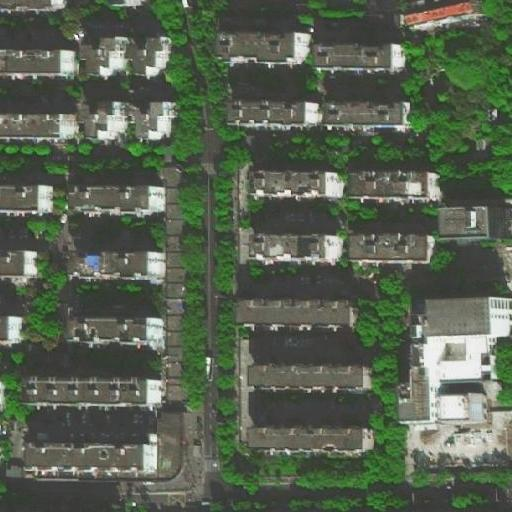building: (413, 295, 511, 339), (31, 438, 153, 471), (83, 98, 176, 137), (85, 34, 172, 75), (33, 372, 157, 400), (252, 422, 372, 450), (254, 360, 378, 387), (244, 296, 365, 323), (224, 28, 310, 61), (75, 246, 160, 278), (74, 312, 160, 343), (76, 180, 164, 210), (254, 228, 344, 257), (352, 166, 434, 197), (253, 165, 340, 194), (447, 204, 510, 244), (236, 96, 322, 124), (358, 229, 437, 259), (328, 98, 411, 124), (325, 40, 404, 67), (1, 48, 77, 76), (0, 182, 63, 213), (2, 111, 74, 136), (438, 391, 490, 424), (315, 9, 390, 30), (0, 247, 46, 276), (0, 311, 23, 339), (40, 352, 69, 370)
